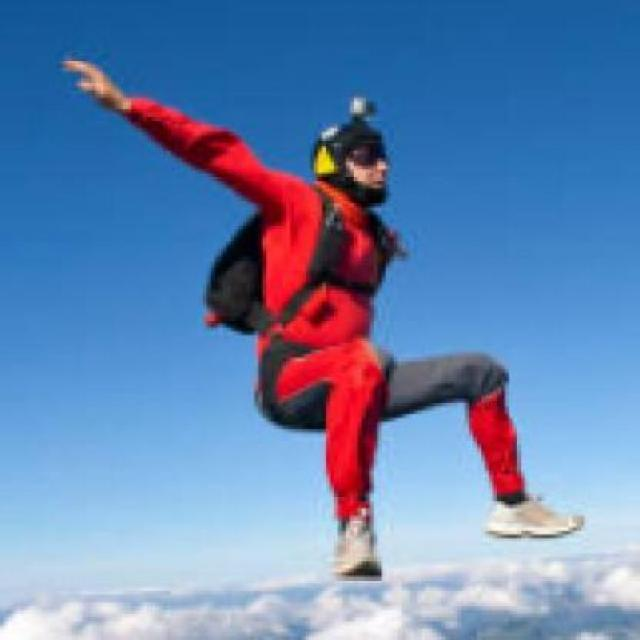fall: (60, 54, 589, 581)
